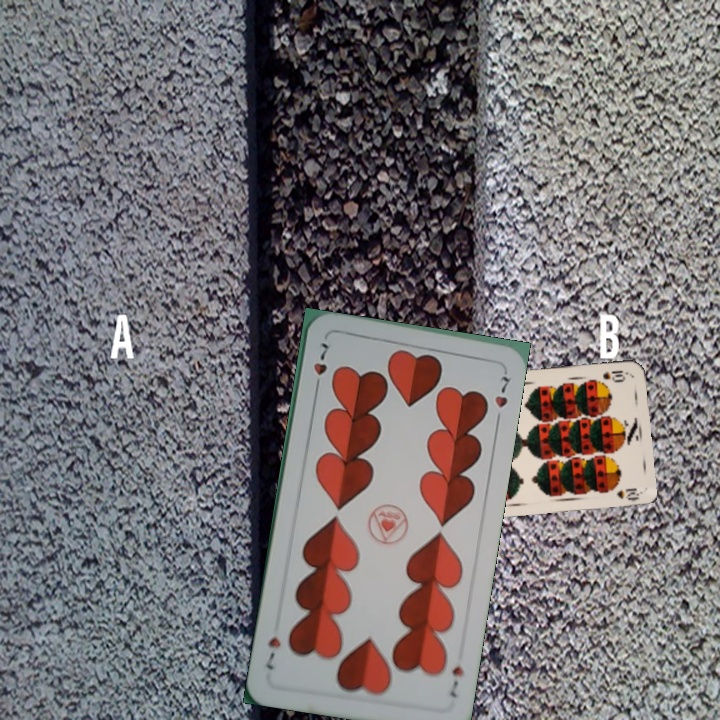H7: (309, 338, 332, 394), (445, 662, 467, 700)
S10: (599, 366, 630, 383)
